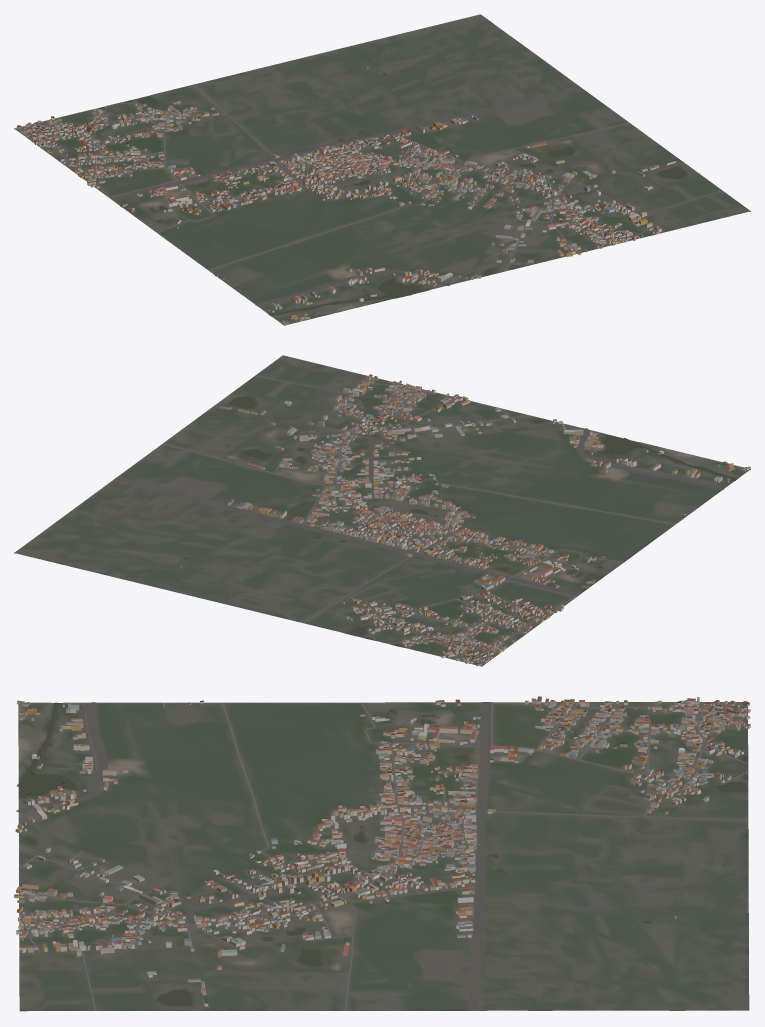
3 renders of one model, top to bottom at view 1: azimuth 30°, elevation 25°; view 2: azimuth 150°, elevation 25°; view 3: azimuth 270°, elevation 25°, orthographic. The views are drawn at different scales.
Parts seen in each view (by area): view 1: ground, buildings, roads, water; view 2: ground, buildings, roads, water; view 3: ground, buildings, roads, water.
Boxes of the visible parts, <box> form: ground: <box>14,14,750,325</box>; buildings: <box>16,66,675,325</box>; roads: <box>19,84,722,307</box>; water: <box>95,73,686,315</box>; ground: <box>14,355,750,666</box>; buildings: <box>180,374,750,666</box>; roads: <box>114,375,725,664</box>; water: <box>183,396,737,646</box>; ground: <box>18,702,749,1011</box>; buildings: <box>14,696,750,1006</box>; roads: <box>16,702,748,1010</box>; water: <box>16,702,747,1005</box>.
Bounding box in the file's own units: 1414 × 18.77 × 1416.
